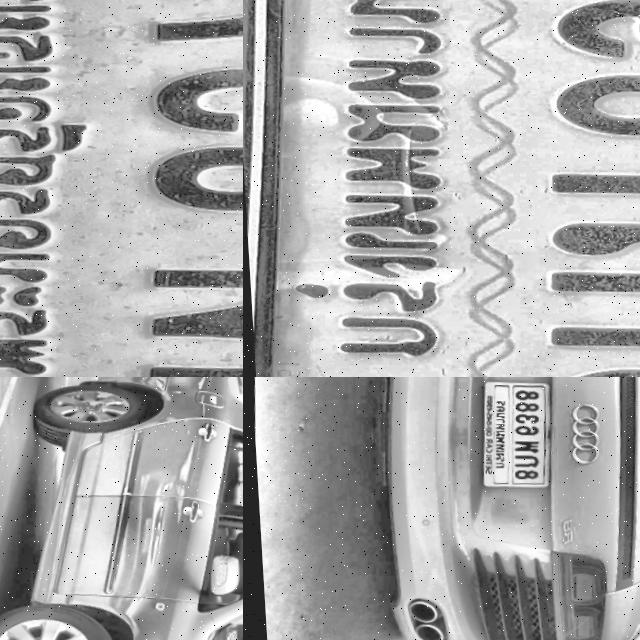license-plate: (243, 0, 640, 377), (0, 0, 243, 377), (470, 379, 557, 494)
